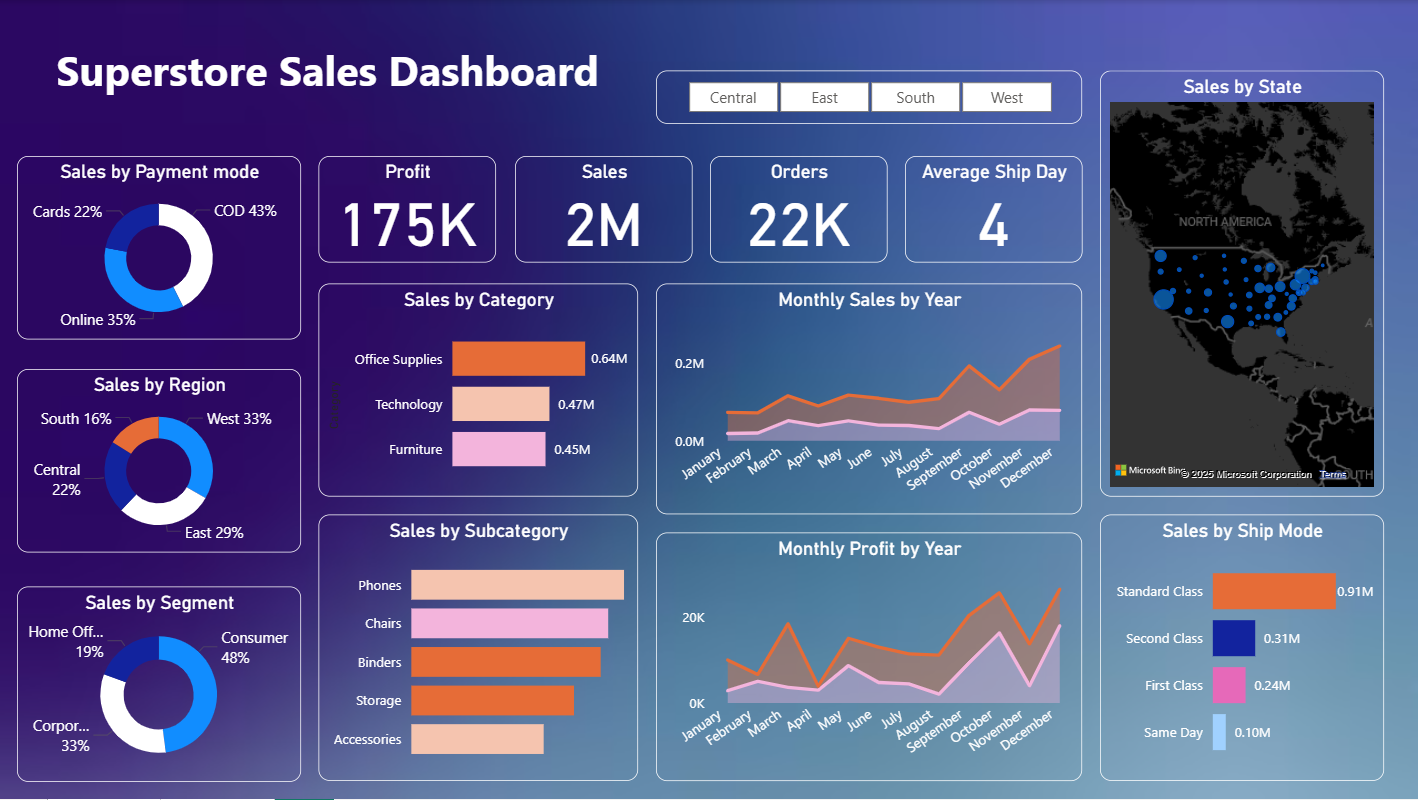

What the dashboard file says about the page in this screenshot:
{"tool":"powerbi","page":{"name":"Page 1","canvas":[1280,720],"ordinal":0},"visuals":[{"type":"card","title":"Profit","fields":{"Values":["Sum(SuperStore_Sales_Dataset (2).Profit)"]},"box":[288.4,140.5,160,96],"z":0},{"type":"card","title":"Sales","fields":{"Values":["Sum(SuperStore_Sales_Dataset (2).Sales)"]},"box":[464.4,140.5,160,96],"z":1000},{"type":"card","title":"Orders","fields":{"Values":["Sum(SuperStore_Sales_Dataset.Quantity)"]},"box":[640.4,140.5,160,96],"z":2000},{"type":"card","title":"Average Ship Day","fields":{"Values":["Avg(SuperStore_Sales_Dataset (2).Ship day)"]},"box":[816.4,140.5,160,96],"z":3000},{"type":"donutChart","title":"Sales by Payment mode","fields":{"Category":["SuperStore_Sales_Dataset (2).Payment Mode"],"Y":["Sum(SuperStore_Sales_Dataset (2).Sales)"]},"box":[16.4,140.5,256,165],"z":4000},{"type":"donutChart","title":"Sales by Region","fields":{"Category":["SuperStore_Sales_Dataset (2).Region"],"Y":["Sum(SuperStore_Sales_Dataset (2).Sales)"]},"box":[16.4,332.5,256,165],"z":5000},{"type":"donutChart","title":"Sales by Segment","fields":{"Category":["SuperStore_Sales_Dataset (2).Segment"],"Y":["Sum(SuperStore_Sales_Dataset (2).Sales)"]},"box":[16,528,256,176],"z":6000},{"type":"barChart","title":"Sales by Category","fields":{"Category":["SuperStore_Sales_Dataset (2).Category"],"Y":["Sum(SuperStore_Sales_Dataset (2).Sales)"]},"box":[288,256,288,192],"z":7000},{"type":"barChart","title":"Sales by Subcategory","fields":{"Category":["SuperStore_Sales_Dataset (2).Sub-Category"],"Y":["Sum(SuperStore_Sales_Dataset (2).Sales)"],"Series":["SuperStore_Sales_Dataset (2).Category"]},"box":[288,464,288,240],"z":8000},{"type":"stackedAreaChart","title":"Monthly Sales by Year","fields":{"Y":["Sum(SuperStore_Sales_Dataset (2).Sales)"],"Category":["SuperStore_Sales_Dataset (2).Order Date.Variation.Date Hierarchy.Month"],"Series":["SuperStore_Sales_Dataset (2).Order Date.Variation.Date Hierarchy.Year"]},"box":[592,256,384,208],"z":9000},{"type":"stackedAreaChart","title":"Monthly Profit by Year","fields":{"Category":["SuperStore_Sales_Dataset (2).Order Date.Variation.Date Hierarchy.Month"],"Series":["SuperStore_Sales_Dataset (2).Order Date.Variation.Date Hierarchy.Year"],"Y":["Sum(SuperStore_Sales_Dataset (2).Profit)"]},"box":[592,480,384,224],"z":10000},{"type":"map","title":"Sales by State","fields":{"Category":["SuperStore_Sales_Dataset (2).State"],"Size":["Sum(SuperStore_Sales_Dataset (2).Sales)"]},"box":[992,64,256,384],"z":11000},{"type":"barChart","title":"Sales by Ship Mode","fields":{"Category":["SuperStore_Sales_Dataset (2).Ship Mode"],"Y":["Sum(SuperStore_Sales_Dataset (2).Sales)"]},"box":[992,464,256,240],"z":12000},{"type":"slicer","fields":{"Values":["SuperStore_Sales_Dataset (2).Region"]},"box":[592,64,384,48],"z":13000},{"type":"textbox","box":[16,32,560,96],"z":14000}]}

Visuals, with their boxes in screenshot pixels (x1, y1, x2, y2), scaled from the page's 1280x720 canvas onto the 1418x800 screenshot:
"Profit" card: pyautogui.locateOnScreen(319, 156, 497, 263)
"Sales" card: pyautogui.locateOnScreen(514, 156, 692, 263)
"Orders" card: pyautogui.locateOnScreen(709, 156, 887, 263)
"Average Ship Day" card: pyautogui.locateOnScreen(904, 156, 1082, 263)
"Sales by Payment mode" donutChart: pyautogui.locateOnScreen(18, 156, 302, 339)
"Sales by Region" donutChart: pyautogui.locateOnScreen(18, 369, 302, 553)
"Sales by Segment" donutChart: pyautogui.locateOnScreen(18, 587, 301, 782)
"Sales by Category" barChart: pyautogui.locateOnScreen(319, 284, 638, 498)
"Sales by Subcategory" barChart: pyautogui.locateOnScreen(319, 516, 638, 782)
"Monthly Sales by Year" stackedAreaChart: pyautogui.locateOnScreen(656, 284, 1081, 516)
"Monthly Profit by Year" stackedAreaChart: pyautogui.locateOnScreen(656, 533, 1081, 782)
"Sales by State" map: pyautogui.locateOnScreen(1099, 71, 1383, 498)
"Sales by Ship Mode" barChart: pyautogui.locateOnScreen(1099, 516, 1383, 782)
slicer - SuperStore_Sales_Dataset (2).Region: pyautogui.locateOnScreen(656, 71, 1081, 124)
textbox: pyautogui.locateOnScreen(18, 36, 638, 142)
